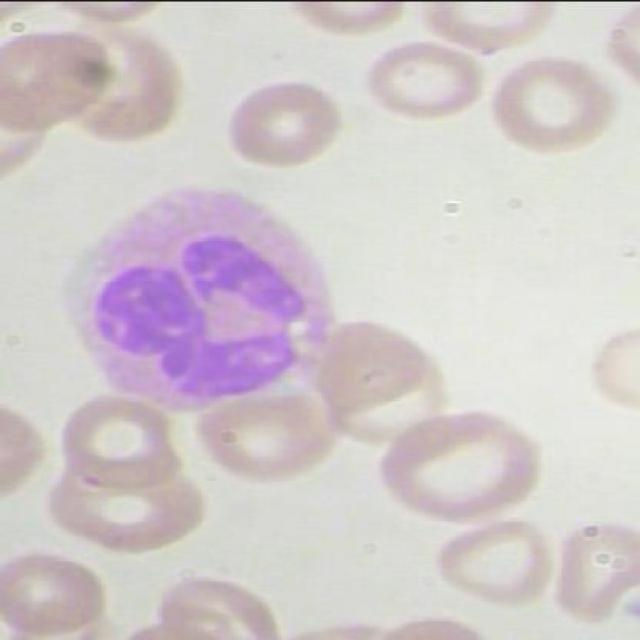RBC: (377, 398, 546, 528), (44, 453, 213, 556), (188, 383, 342, 485), (488, 44, 617, 158), (57, 387, 183, 495), (427, 512, 558, 610), (304, 317, 428, 418), (221, 72, 344, 173), (358, 37, 484, 126), (546, 509, 639, 629), (0, 552, 114, 636), (417, 1, 565, 54), (284, 1, 414, 50), (576, 318, 638, 411)
WBC: (46, 172, 368, 430)
